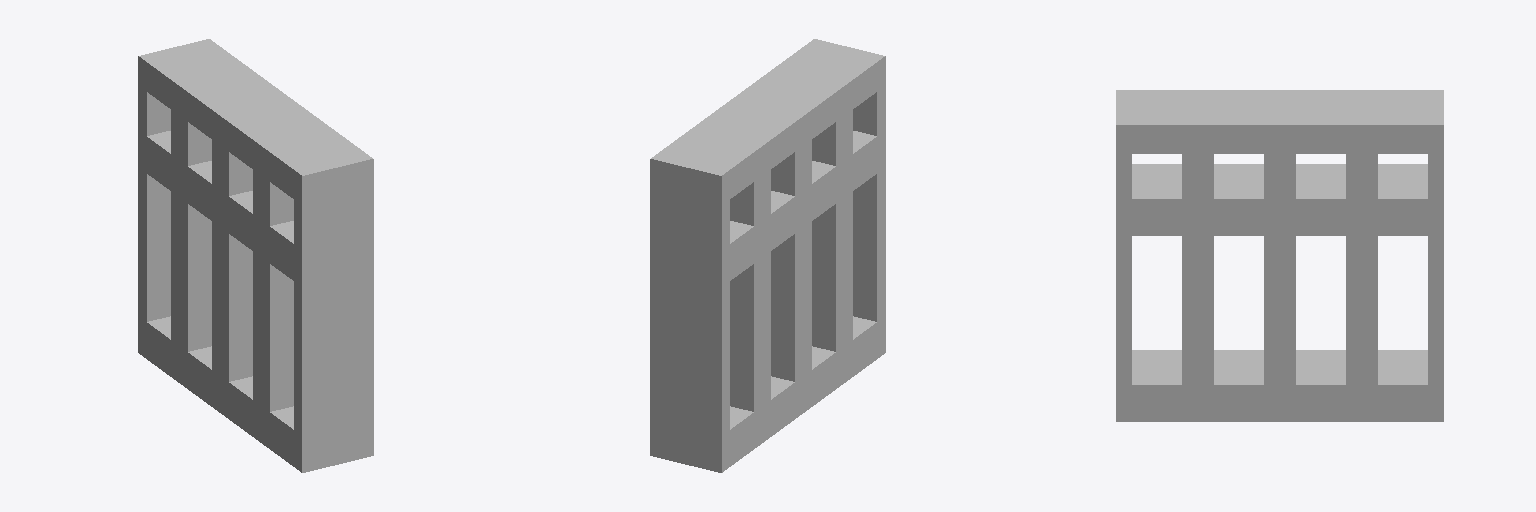
File: window4.obj
3 views of the same model, side by side, from view 1: azimuth 30°, elevation 25°; view 2: azimuth 150°, elevation 25°; view 3: azimuth 270°, elevation 25° (orthographic).
Visible parts, largest first — view 1: Cube_Cube.001; view 2: Cube_Cube.001; view 3: Cube_Cube.001.
Boxes of the visible parts, x1,y1,x2,y2 form: Cube_Cube.001: [138, 39, 373, 472]; Cube_Cube.001: [650, 39, 885, 472]; Cube_Cube.001: [1116, 90, 1443, 421].
Bounding box in the file's own units: 1 × 4 × 4.